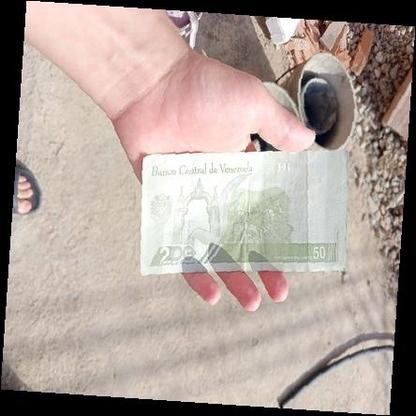fifty-back-vef: (140, 149, 347, 275)
